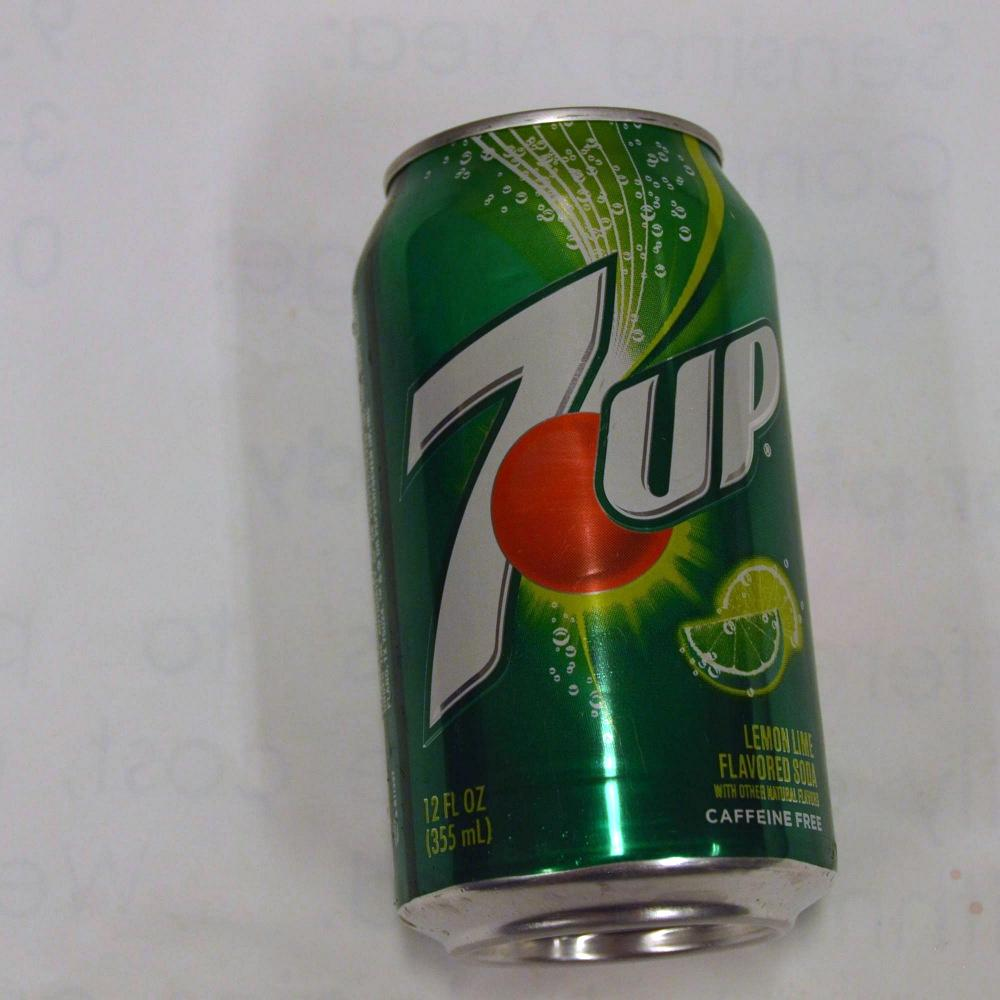Metal: (335, 93, 836, 967)
